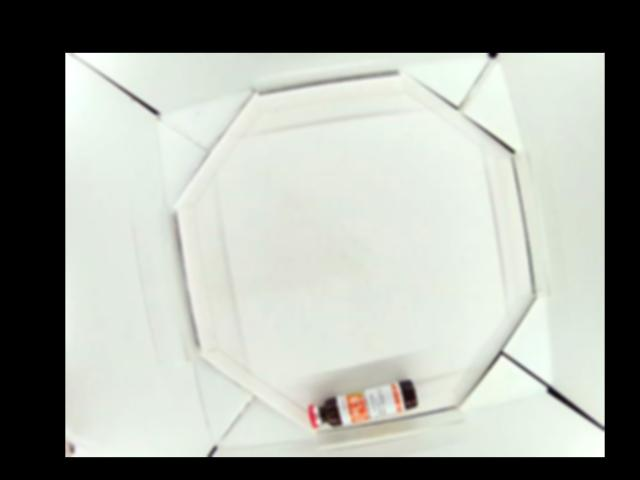Medicine: (308, 379, 420, 428)
